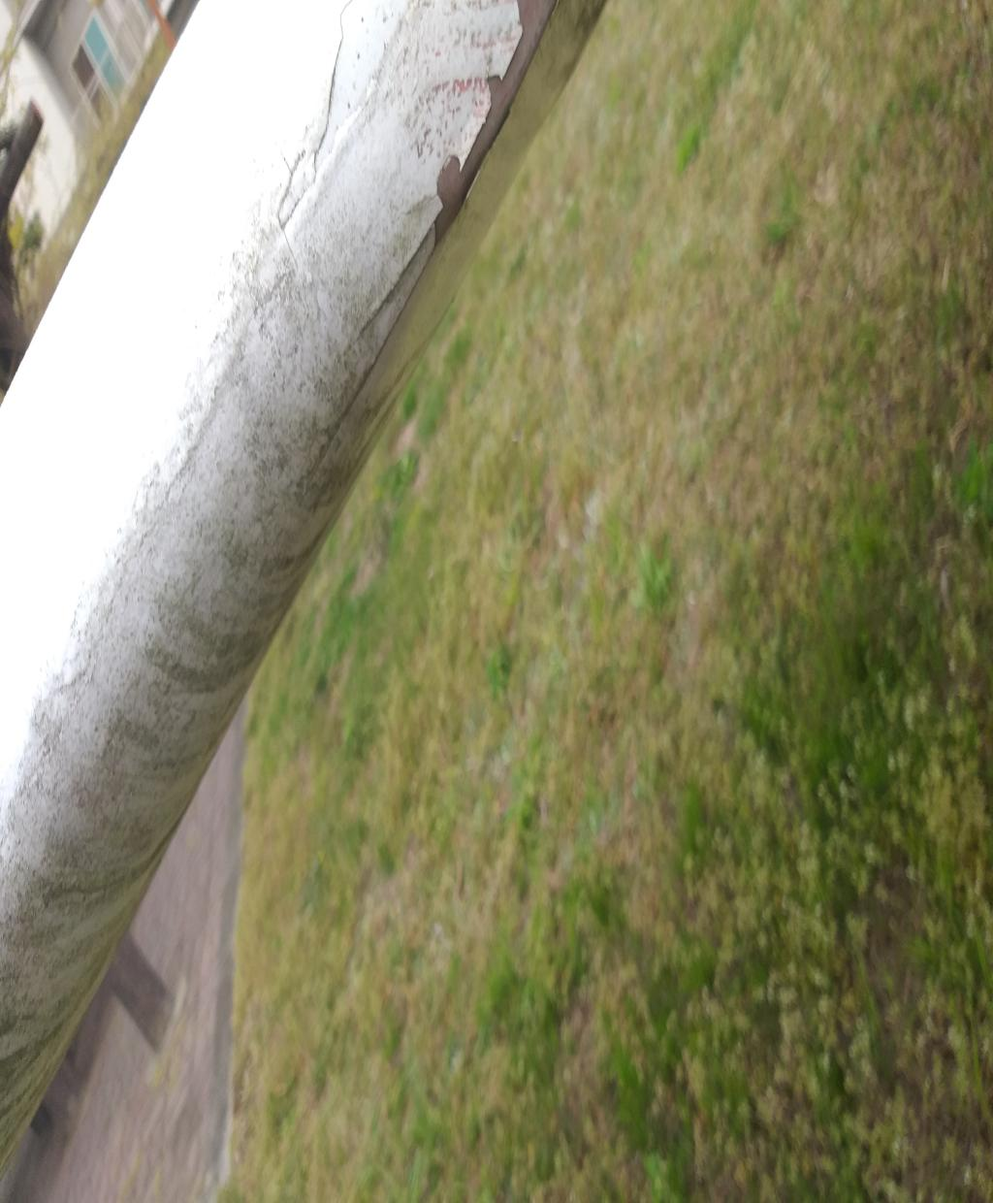corrosion: (423, 729, 558, 1203)
